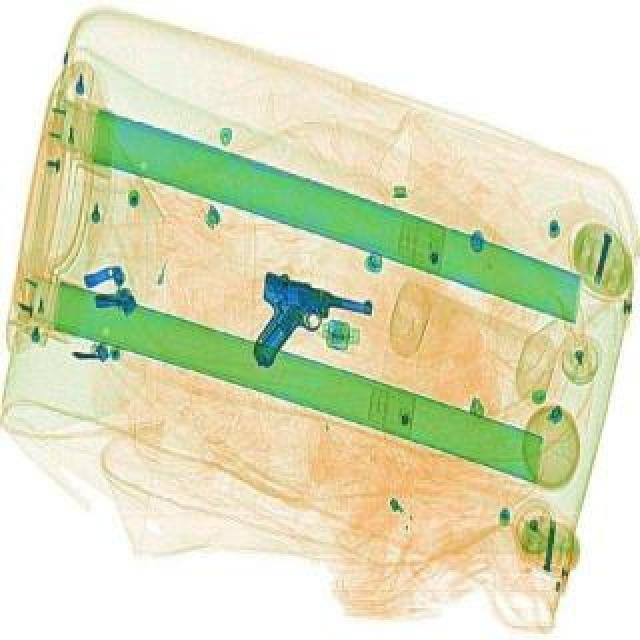gun: (236, 268, 376, 388)
